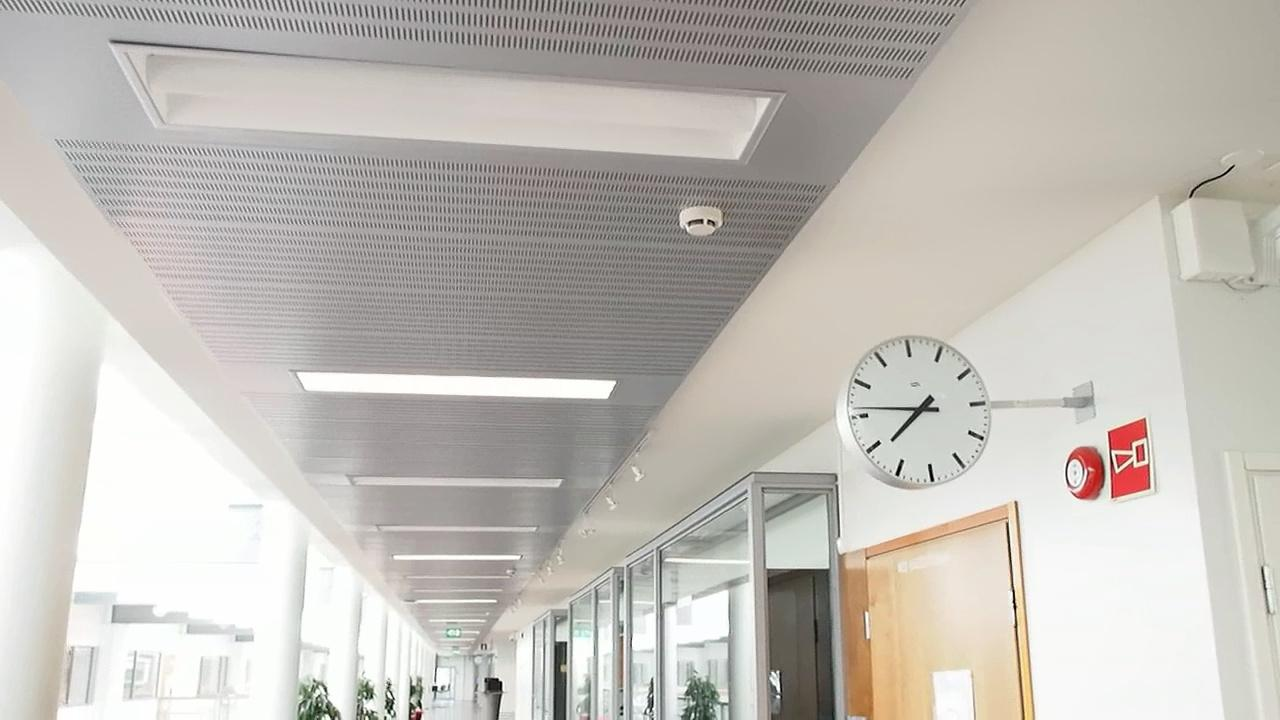clock: (836, 332, 1002, 497)
